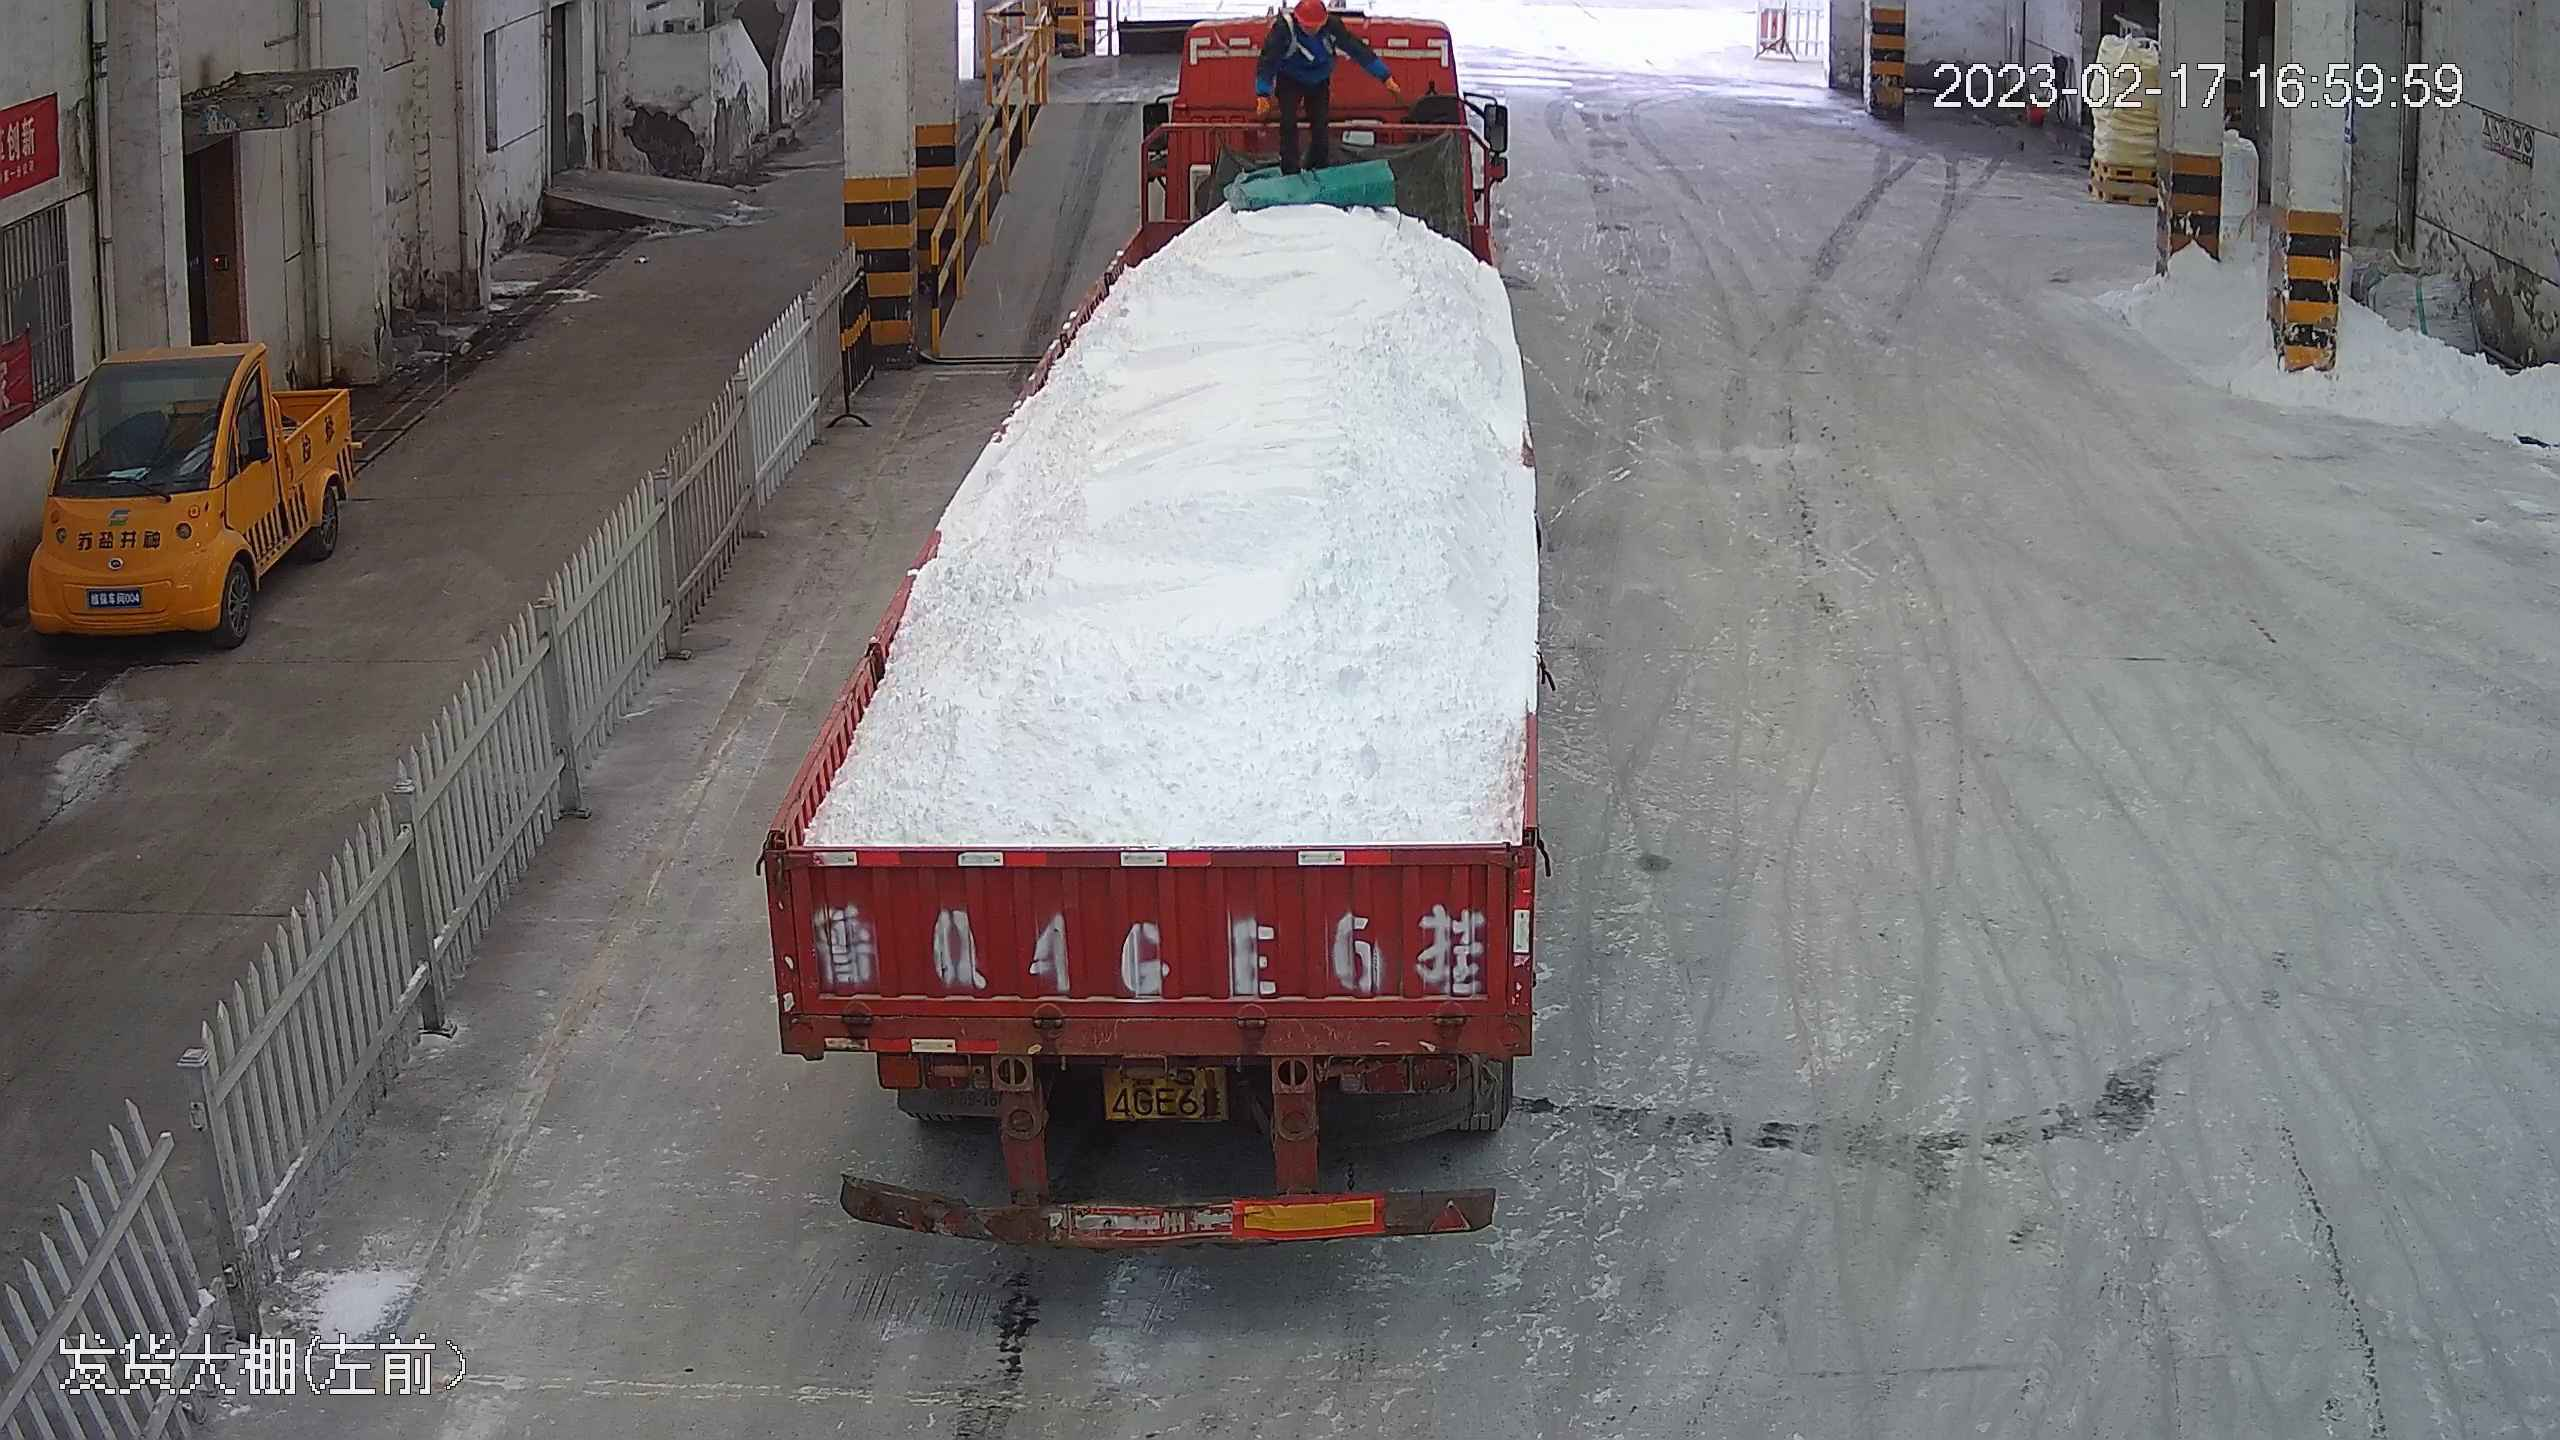head: (1262, 1, 1352, 37)
helmet: (1288, 1, 1331, 27)
people: (1252, 1, 1401, 179)
truck: (751, 1, 1549, 1250)
